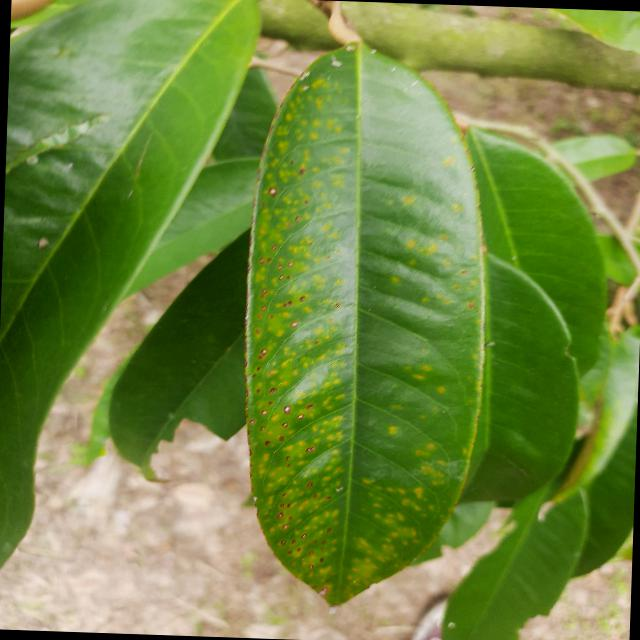Leaf Spot: (224, 18, 503, 626)
